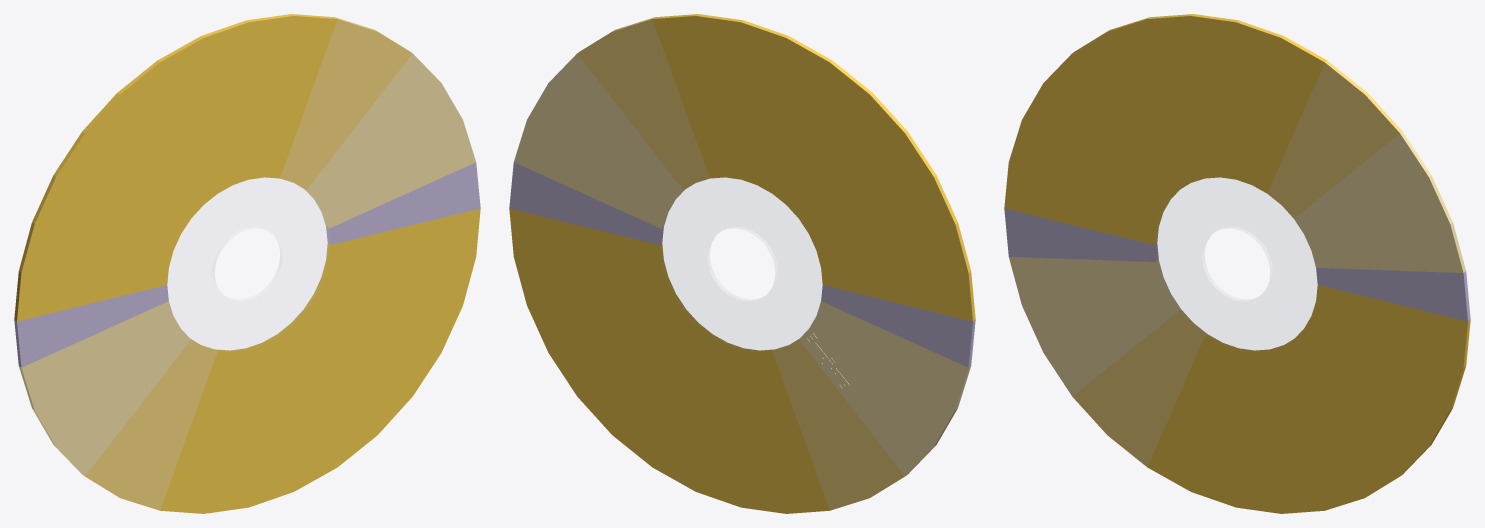
Rendered from dvd.fbx.
3 renders of one model, left to right at view 1: azimuth 30°, elevation 25°; view 2: azimuth 150°, elevation 25°; view 3: azimuth 330°, elevation 25°, orthographic.
Visible parts, largest first — view 1: Circle.2553; view 2: Circle.2553; view 3: Circle.2553.
Part boxes in pixels (x1=…): Circle.2553: x1=14, y1=14, x2=480, y2=513; Circle.2553: x1=509, y1=14, x2=975, y2=513; Circle.2553: x1=1004, y1=14, x2=1470, y2=513.
Bounding box in the file's own units: 220 × 220 × 2.42.
Materials: 2 (1 with a texture image).
